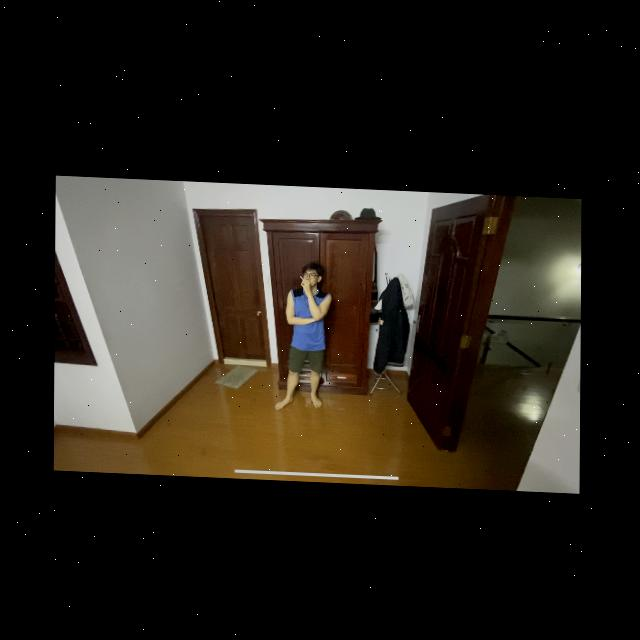cigarette: (300, 273, 305, 276)
